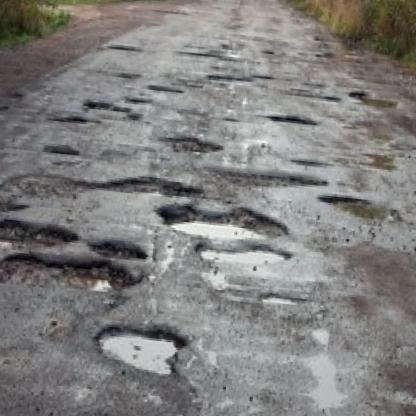pothole: (2, 162, 203, 217), (151, 196, 290, 247), (0, 249, 144, 297), (194, 161, 329, 211), (91, 320, 189, 380), (194, 237, 293, 272), (0, 213, 79, 256), (317, 192, 404, 224), (158, 132, 225, 157), (87, 237, 148, 264), (347, 88, 403, 114), (0, 177, 28, 228), (173, 48, 241, 62), (286, 88, 344, 103), (268, 111, 318, 128), (51, 111, 99, 127), (262, 290, 303, 308), (83, 101, 130, 115), (207, 71, 250, 84), (44, 143, 80, 158), (147, 82, 187, 95), (108, 42, 140, 54), (127, 94, 151, 105), (127, 110, 144, 121), (251, 73, 273, 80), (0, 103, 10, 114), (262, 49, 273, 57)
